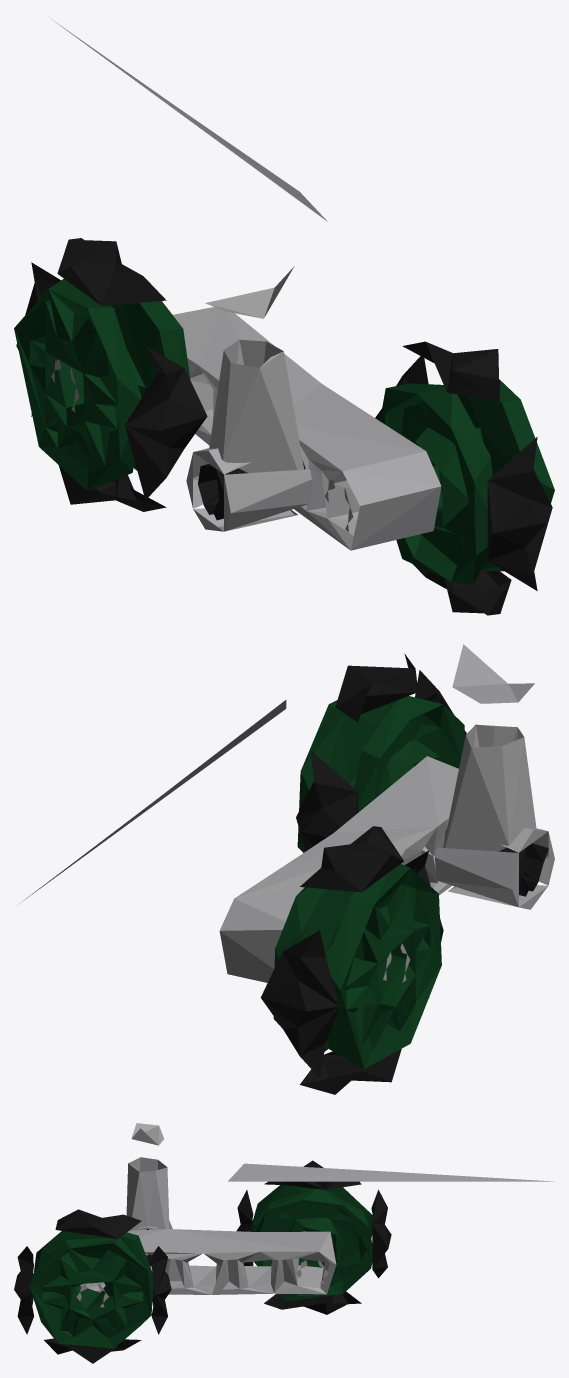
The model's file is gear-right.glb.
3 renders of one model, top to bottom at view 1: azimuth 30°, elevation 25°; view 2: azimuth 150°, elevation 25°; view 3: azimuth 270°, elevation 25°, orthographic. The views are drawn at different scales.
Parts seen in each view (by area): view 1: rightGear; view 2: rightGear; view 3: rightGear.
Boxes of the visible parts, x1,y1,x2,y2 form: rightGear: (14,18,554,615); rightGear: (18,644,554,1094); rightGear: (14,1123,554,1363).
Bounding box in the file's own units: 1.03 × 1.33 × 3.4.
